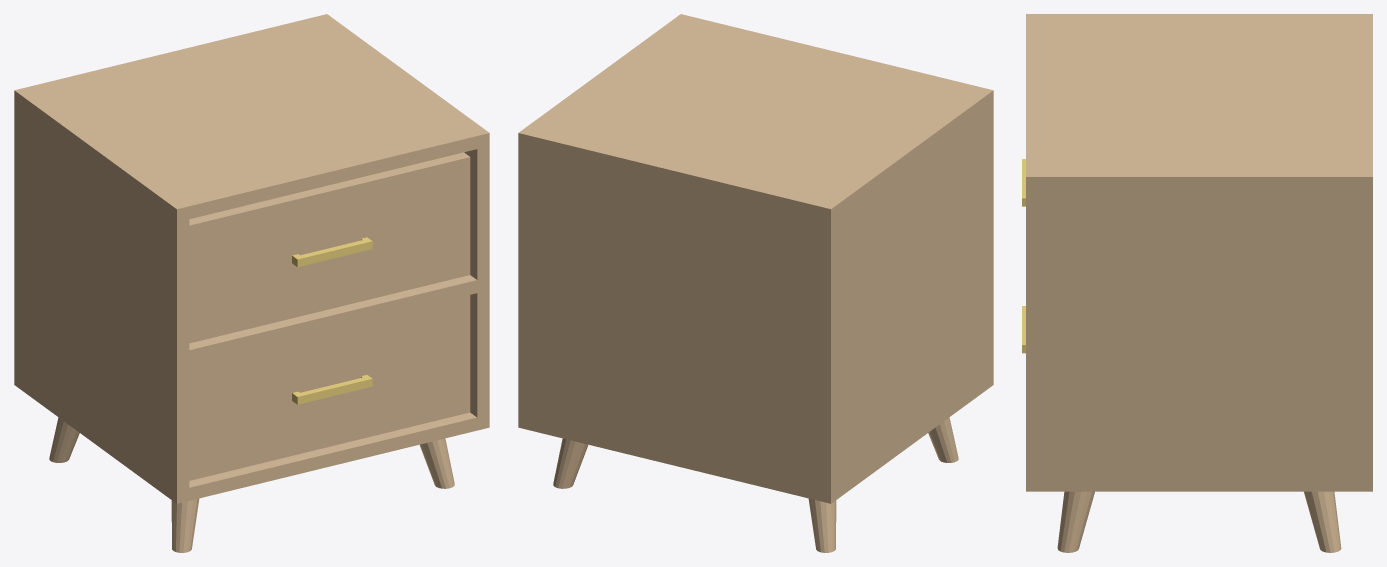
The picture shows the model from 3 angles, left to right: view 1: azimuth 30°, elevation 25°; view 2: azimuth 150°, elevation 25°; view 3: azimuth 270°, elevation 25°; orthographic projection. The views are drawn at different scales.
Parts seen in each view (by area): view 1: carcass, top_drawer, bottom_drawer; view 2: carcass; view 3: carcass.
Part boxes in pixels (x1=…): carcass: x1=14, y1=14, x2=489, y2=552; top_drawer: x1=189, y1=152, x2=470, y2=343; bottom_drawer: x1=189, y1=295, x2=470, y2=480; carcass: x1=518, y1=14, x2=993, y2=552; carcass: x1=1026, y1=14, x2=1372, y2=552.
Size of the model in its own units: 0.5 by 0.55 by 0.455.
